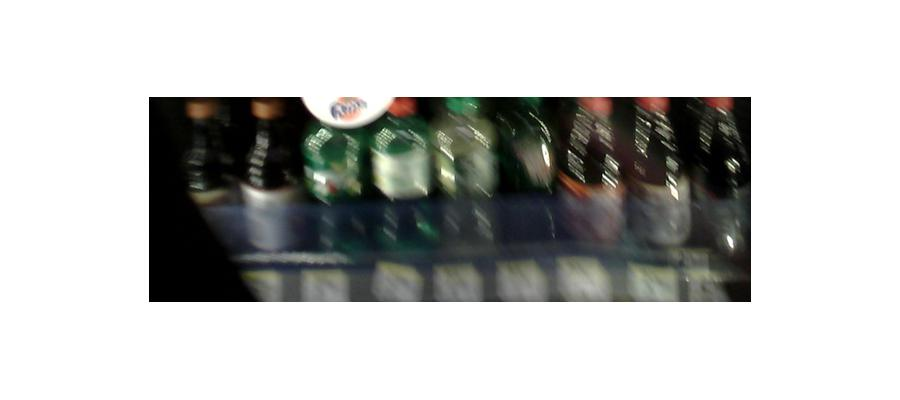bottle: (373, 92, 434, 302), (306, 97, 372, 272), (436, 92, 494, 269), (241, 99, 303, 263), (562, 92, 624, 247), (628, 98, 686, 254), (693, 99, 747, 258), (497, 95, 555, 239)
